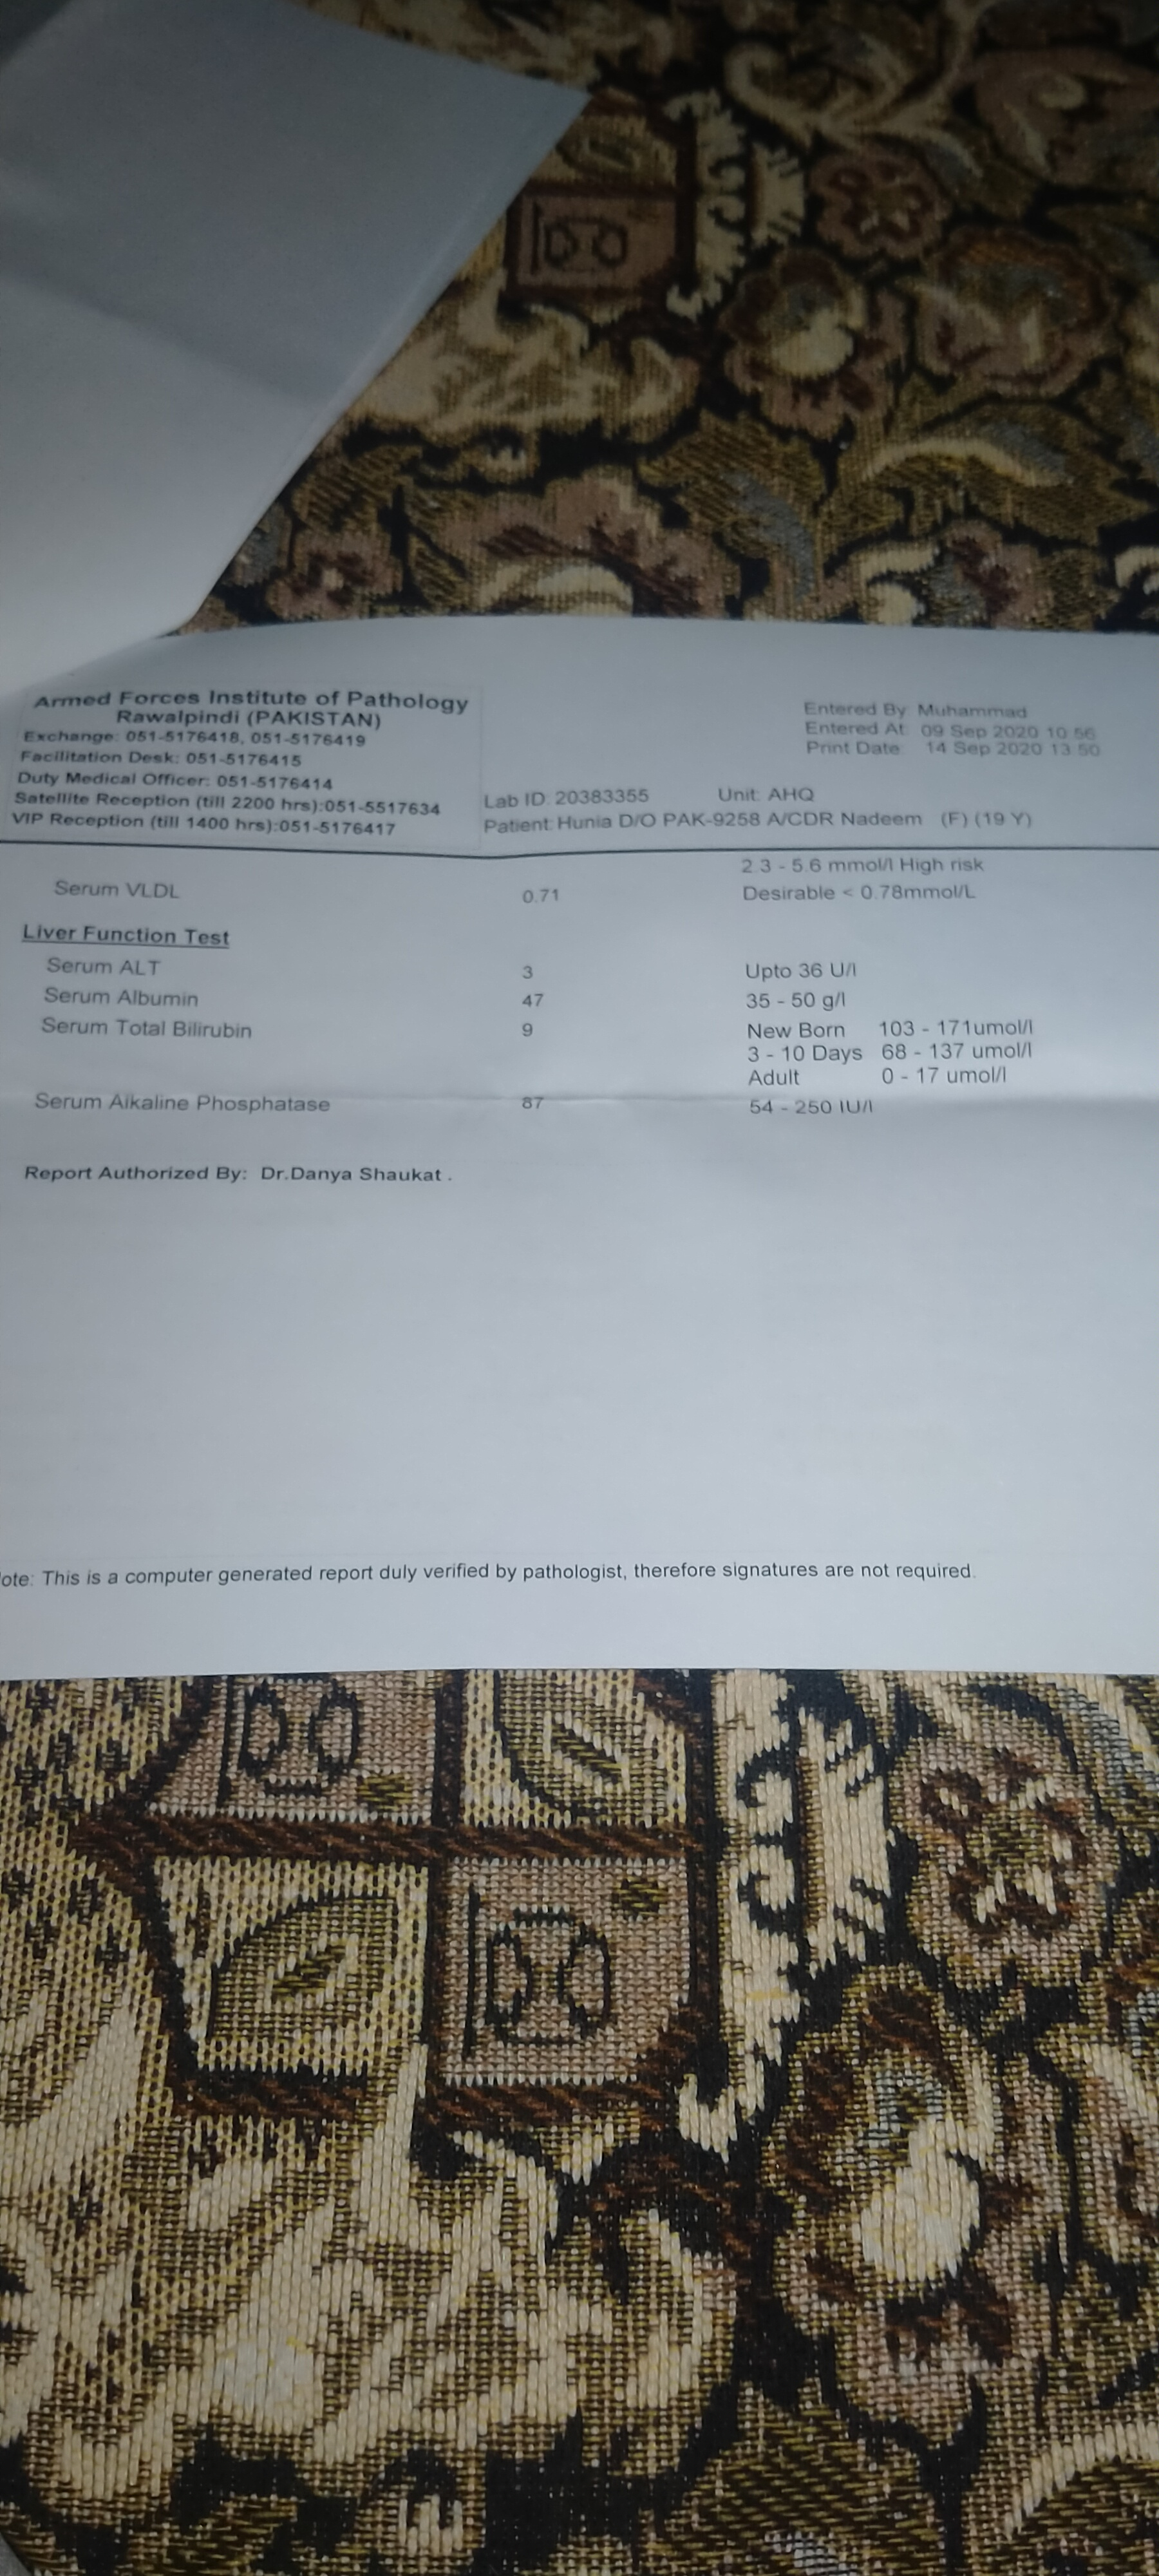report: (7, 831, 1159, 1232)
